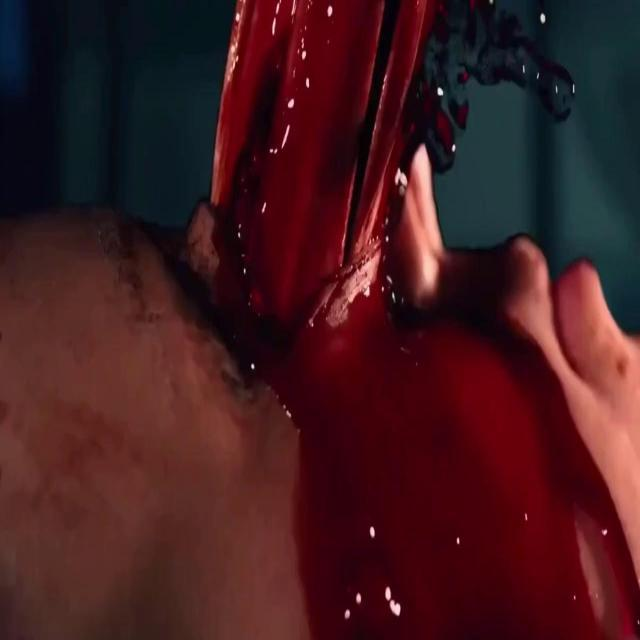flood: (289, 393, 640, 640)
